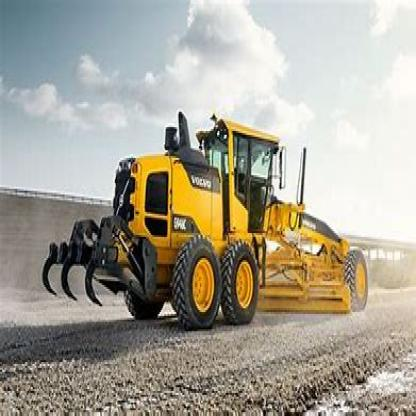bull_dozer/loader/grader: (57, 108, 372, 322)
